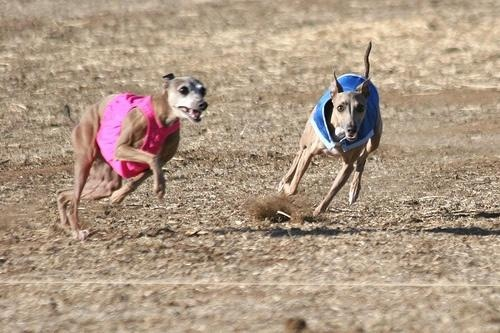dog: (54, 74, 218, 238), (277, 40, 388, 220)
